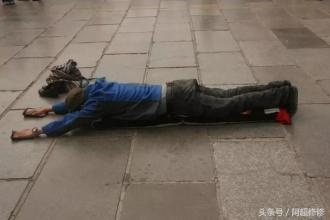falling: (20, 61, 302, 140)
